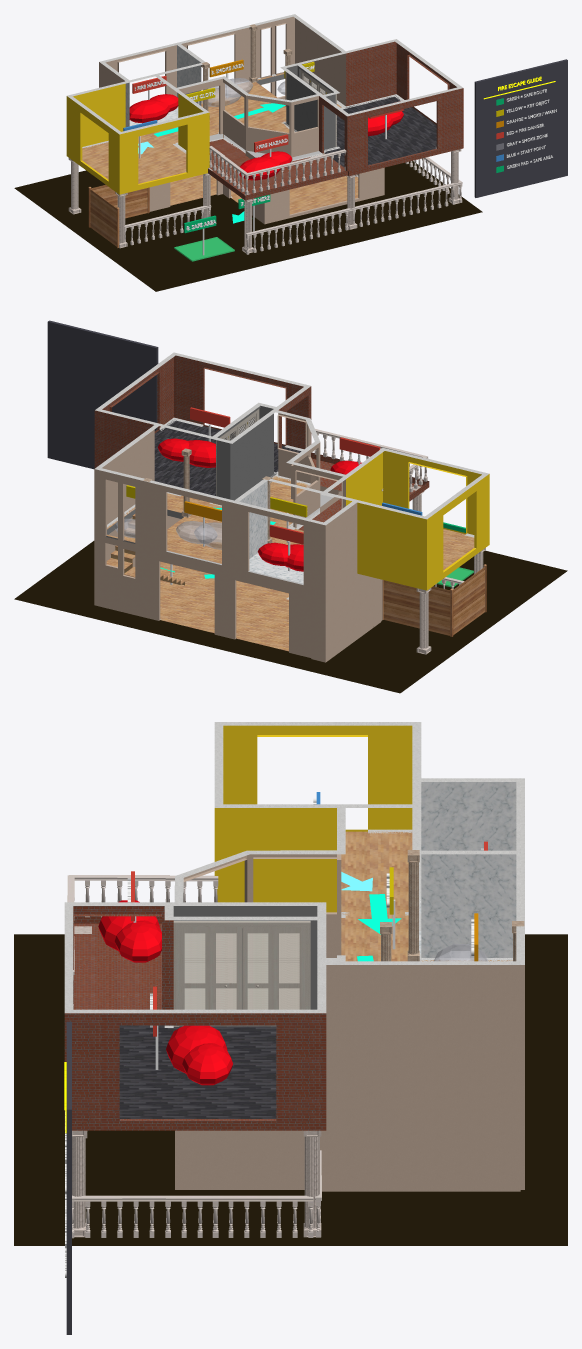
The model's file is houseescape3d.glb.
The picture shows the model from 3 angles, top to bottom: view 1: azimuth 30°, elevation 25°; view 2: azimuth 150°, elevation 25°; view 3: azimuth 270°, elevation 25°; orthographic projection. The views are drawn at different scales.
Parts seen in each view (by area): view 1: Plane, Object_22, Legend_BG, Object_15, Object_62, Object_98, Object_2, Object_21, Object_99, Object_82, Object_14, Object_19 (+9 smaller); view 2: Object_22, Plane, Object_62, Legend_BG, Object_98, Object_15, Object_21, Object_19, Object_109, Object_99, Object_60, Object_2 (+15 smaller); view 3: Plane, Object_22, Object_62, Object_15, Object_60, Object_21, Object_103, Object_99, Object_98, Object_2, Object_14, Object_82 (+7 smaller).
Boxes of the visible parts, x1,y1,x2,y2 form: Plane: (14,160,482,291); Object_22: (99,16,384,224); Legend_BG: (474,59,567,197); Object_15: (208,41,463,200); Object_62: (66,83,209,194); Object_98: (82,73,358,214); Object_2: (124,146,462,254); Object_21: (67,14,462,197); Object_99: (324,95,436,167); Object_82: (68,149,461,253); Object_14: (209,139,437,194); Object_19: (88,185,149,247); Object_22: (94,413,382,662); Plane: (14,541,567,693); Object_62: (346,451,489,590); Legend_BG: (47,320,158,469); Object_98: (107,476,474,651); Object_15: (94,355,429,501); Object_21: (95,352,488,619); Object_19: (382,564,486,636); Object_109: (216,405,273,500); Object_99: (154,420,301,495); Object_60: (239,481,267,558); Object_2: (314,429,464,589); Plane: (14,934,567,1245); Object_22: (175,854,524,1191); Object_62: (214,725,412,912); Object_15: (64,906,326,1130); Object_60: (421,782,516,957); Object_21: (64,722,524,1027); Object_103: (173,921,310,1026); Object_99: (119,1025,276,1118); Object_98: (341,831,512,961); Object_2: (67,875,321,1238); Object_14: (74,923,276,1120); Object_82: (72,926,321,1237).
Size of the model in its own units: 21.81 by 5.99 by 12.6.
45 materials, 18 textured.
